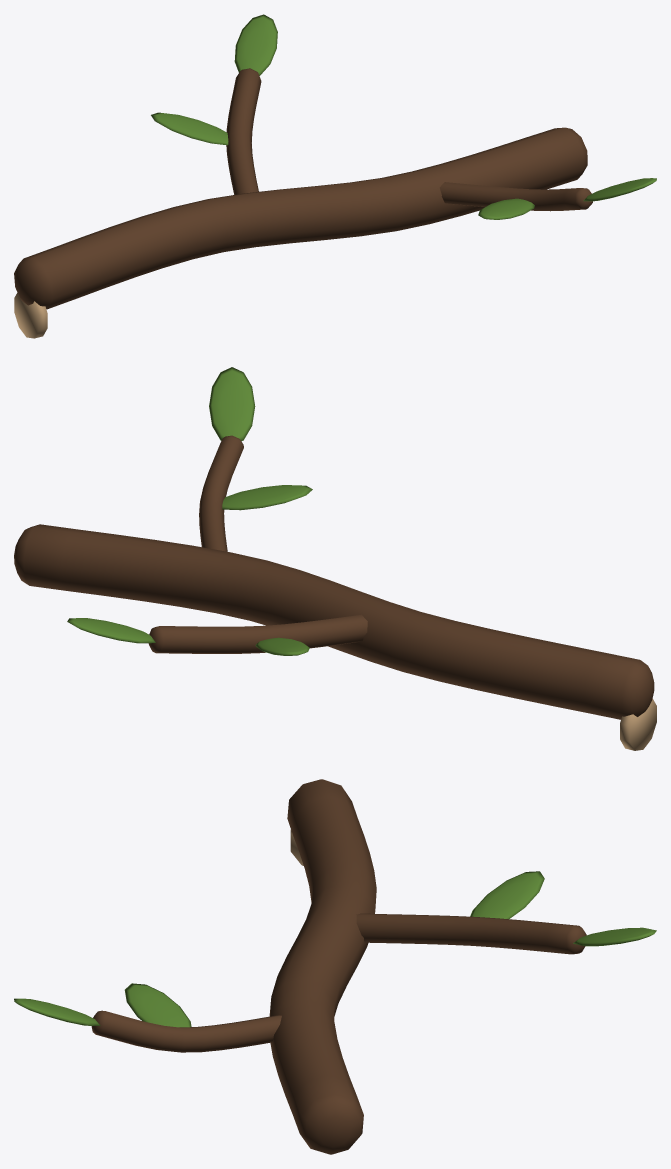
The model's file is ast.glb.
3 renders of one model, top to bottom at view 1: azimuth 30°, elevation 25°; view 2: azimuth 150°, elevation 25°; view 3: azimuth 270°, elevation 25°, orthographic. The views are drawn at different scales.
Visible parts, largest first — view 1: ast-matt; view 2: ast-matt; view 3: ast-matt.
Part boxes in pixels (left/top/right/bottom): ast-matt: left=14, top=14, right=656, bottom=338; ast-matt: left=14, top=367, right=656, bottom=750; ast-matt: left=14, top=779, right=656, bottom=1154.
Size of the model in its own units: 1.27 by 0.2761 by 1.06.
